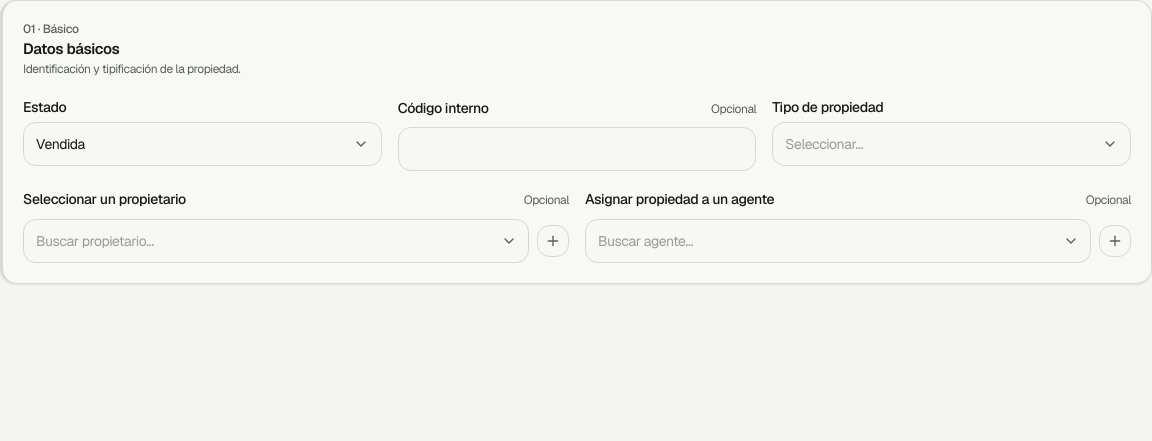
Test case: BasicInfoSection › reflects the controlled status as a semantic label and lists the 6 statuses
Click the dropdown named "Estado".
click(60, 144)  # box top-left (23, 122), bottom-right (382, 166)
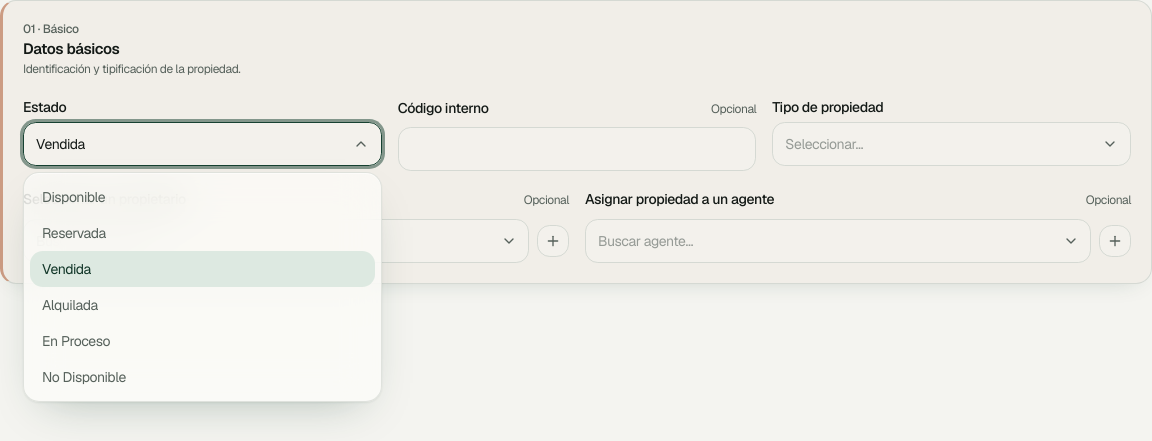
Now the options read "Disponible", "Reservada", "Vendida", "Alquilada", "En Proceso", "No Disponible", in this order, box top-left (30, 178), bottom-right (375, 214); top-left (30, 214), bottom-right (375, 250); top-left (30, 250), bottom-right (375, 286); top-left (30, 286), bottom-right (375, 322); top-left (30, 322), bottom-right (375, 358); top-left (30, 358), bottom-right (375, 394)
